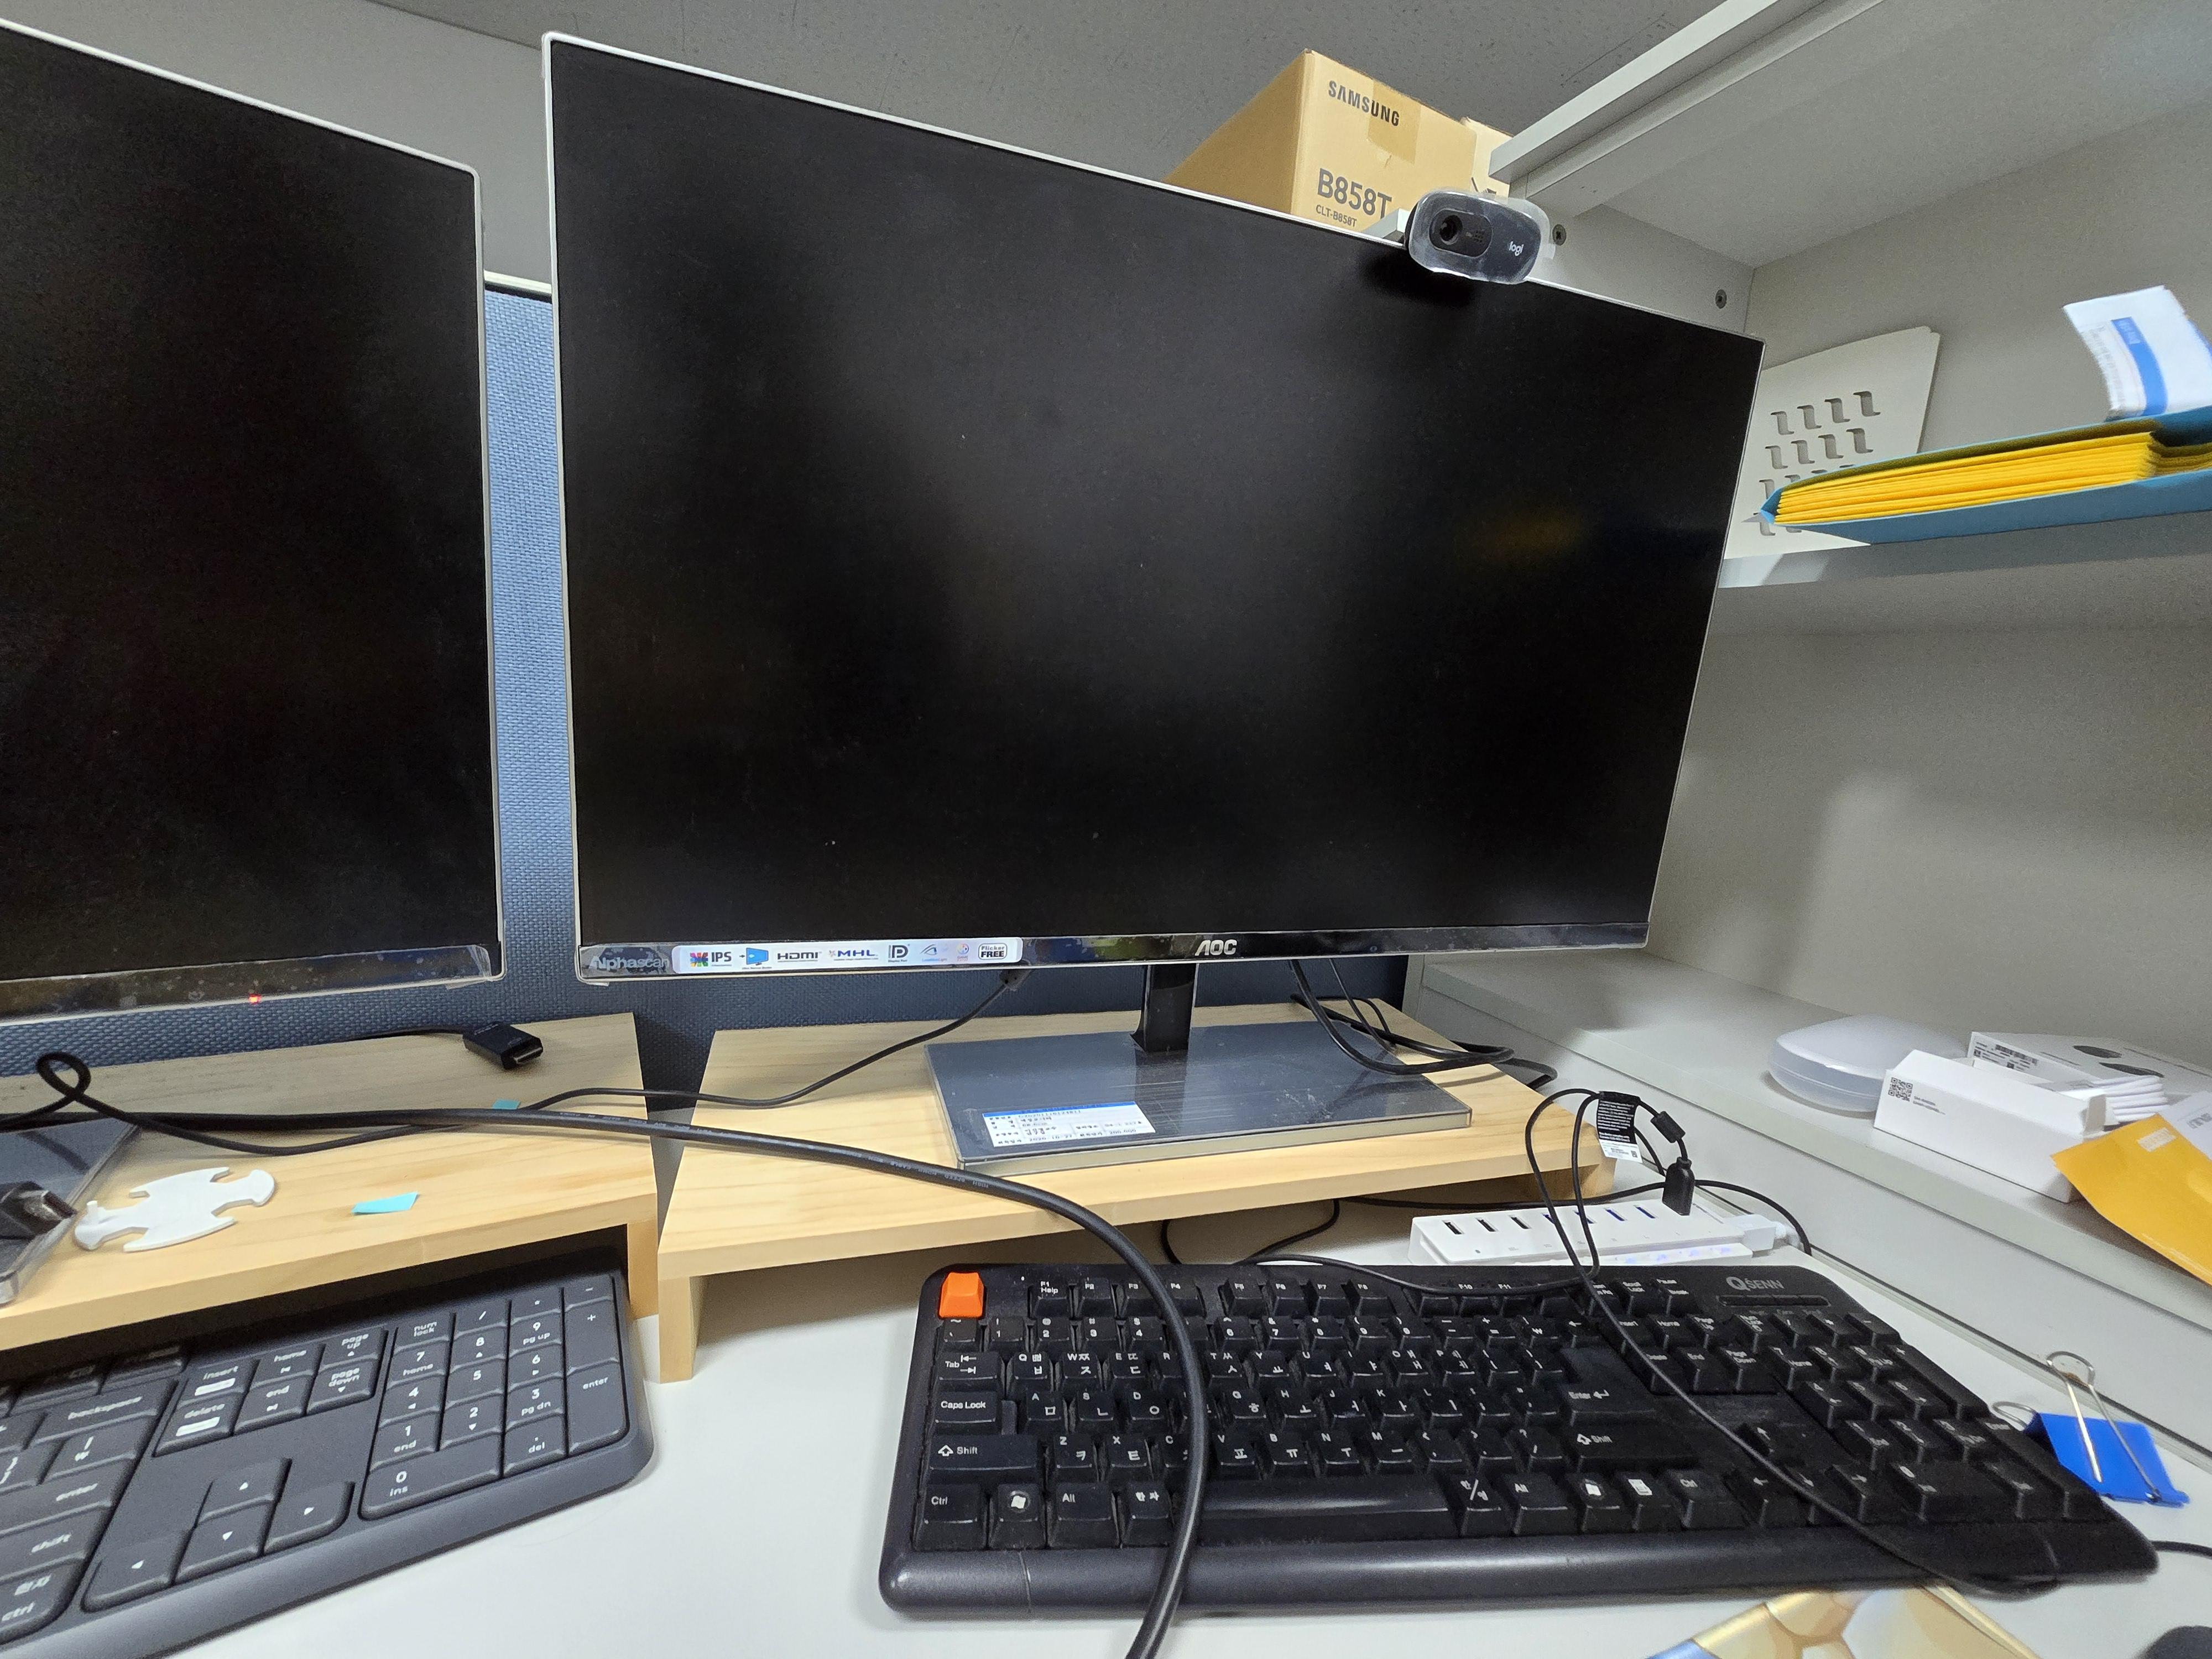keyboard: (875, 1255, 2158, 1616), (1, 1249, 654, 1657)
